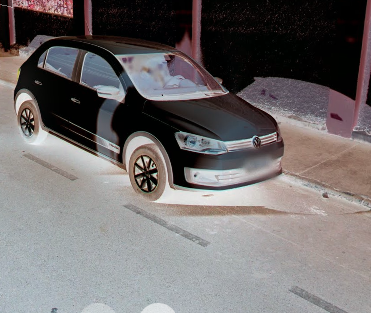car: (11, 16, 295, 204)
